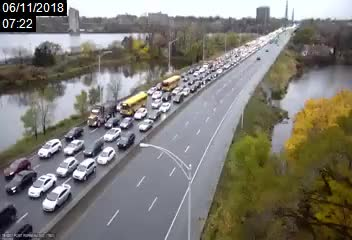congestion: (3, 119, 117, 216), (76, 92, 163, 139), (141, 73, 205, 100), (186, 61, 226, 77), (213, 56, 239, 66)
personal_car: (43, 185, 73, 211), (6, 170, 38, 194), (27, 173, 56, 199), (74, 157, 98, 182), (3, 157, 31, 177), (38, 138, 61, 159), (56, 157, 80, 177), (97, 147, 116, 166), (64, 139, 84, 155), (117, 132, 135, 149), (65, 126, 83, 142), (85, 141, 101, 158), (104, 127, 121, 142), (139, 119, 153, 134), (118, 116, 134, 129), (134, 107, 148, 119), (106, 116, 119, 128), (160, 101, 172, 113), (148, 109, 162, 119), (161, 91, 172, 101), (151, 99, 162, 109), (172, 94, 184, 103), (152, 90, 162, 100), (172, 86, 181, 95), (182, 87, 190, 97), (188, 85, 196, 93), (194, 80, 201, 89), (148, 87, 155, 94), (193, 70, 200, 76), (182, 76, 189, 81), (188, 79, 193, 86), (180, 71, 186, 76)
school_bus: (120, 92, 148, 116), (160, 75, 180, 92)
truck: (87, 102, 116, 127)
